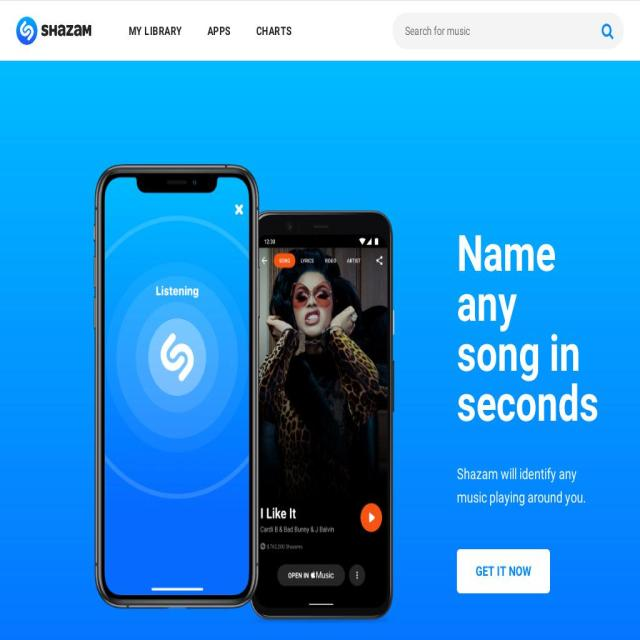button: (457, 548, 551, 594), (598, 21, 618, 40)
field: (392, 12, 624, 49)
heading: (457, 228, 596, 430), (457, 462, 596, 509)
image: (94, 61, 395, 640), (16, 17, 91, 45), (602, 22, 614, 39)
link: (128, 24, 183, 38), (255, 24, 292, 38), (207, 24, 231, 38)
